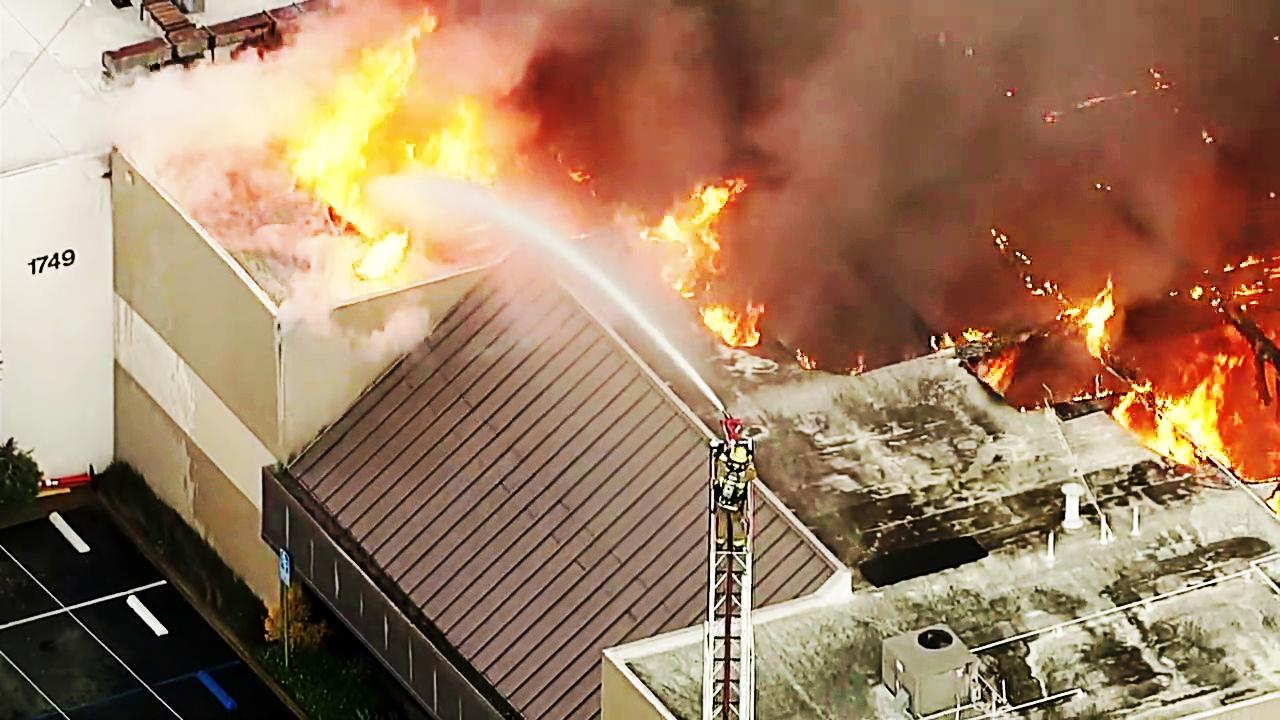fire: (284, 74, 394, 222)
smoke: (497, 0, 1074, 117)
